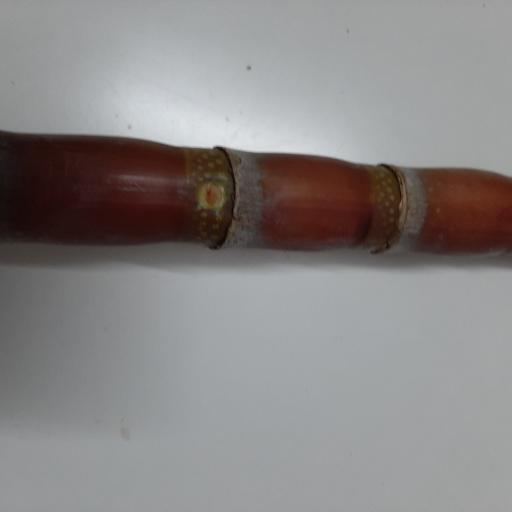Damage_Bud: (197, 180, 228, 212)
